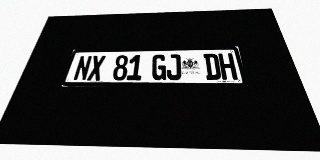1: (126, 55, 143, 80)
8: (112, 55, 129, 80)
D: (203, 53, 222, 80)
G: (151, 54, 166, 80)
H: (218, 53, 238, 80)
J: (167, 54, 181, 80)
N: (73, 56, 92, 81)
X: (87, 55, 106, 81)
